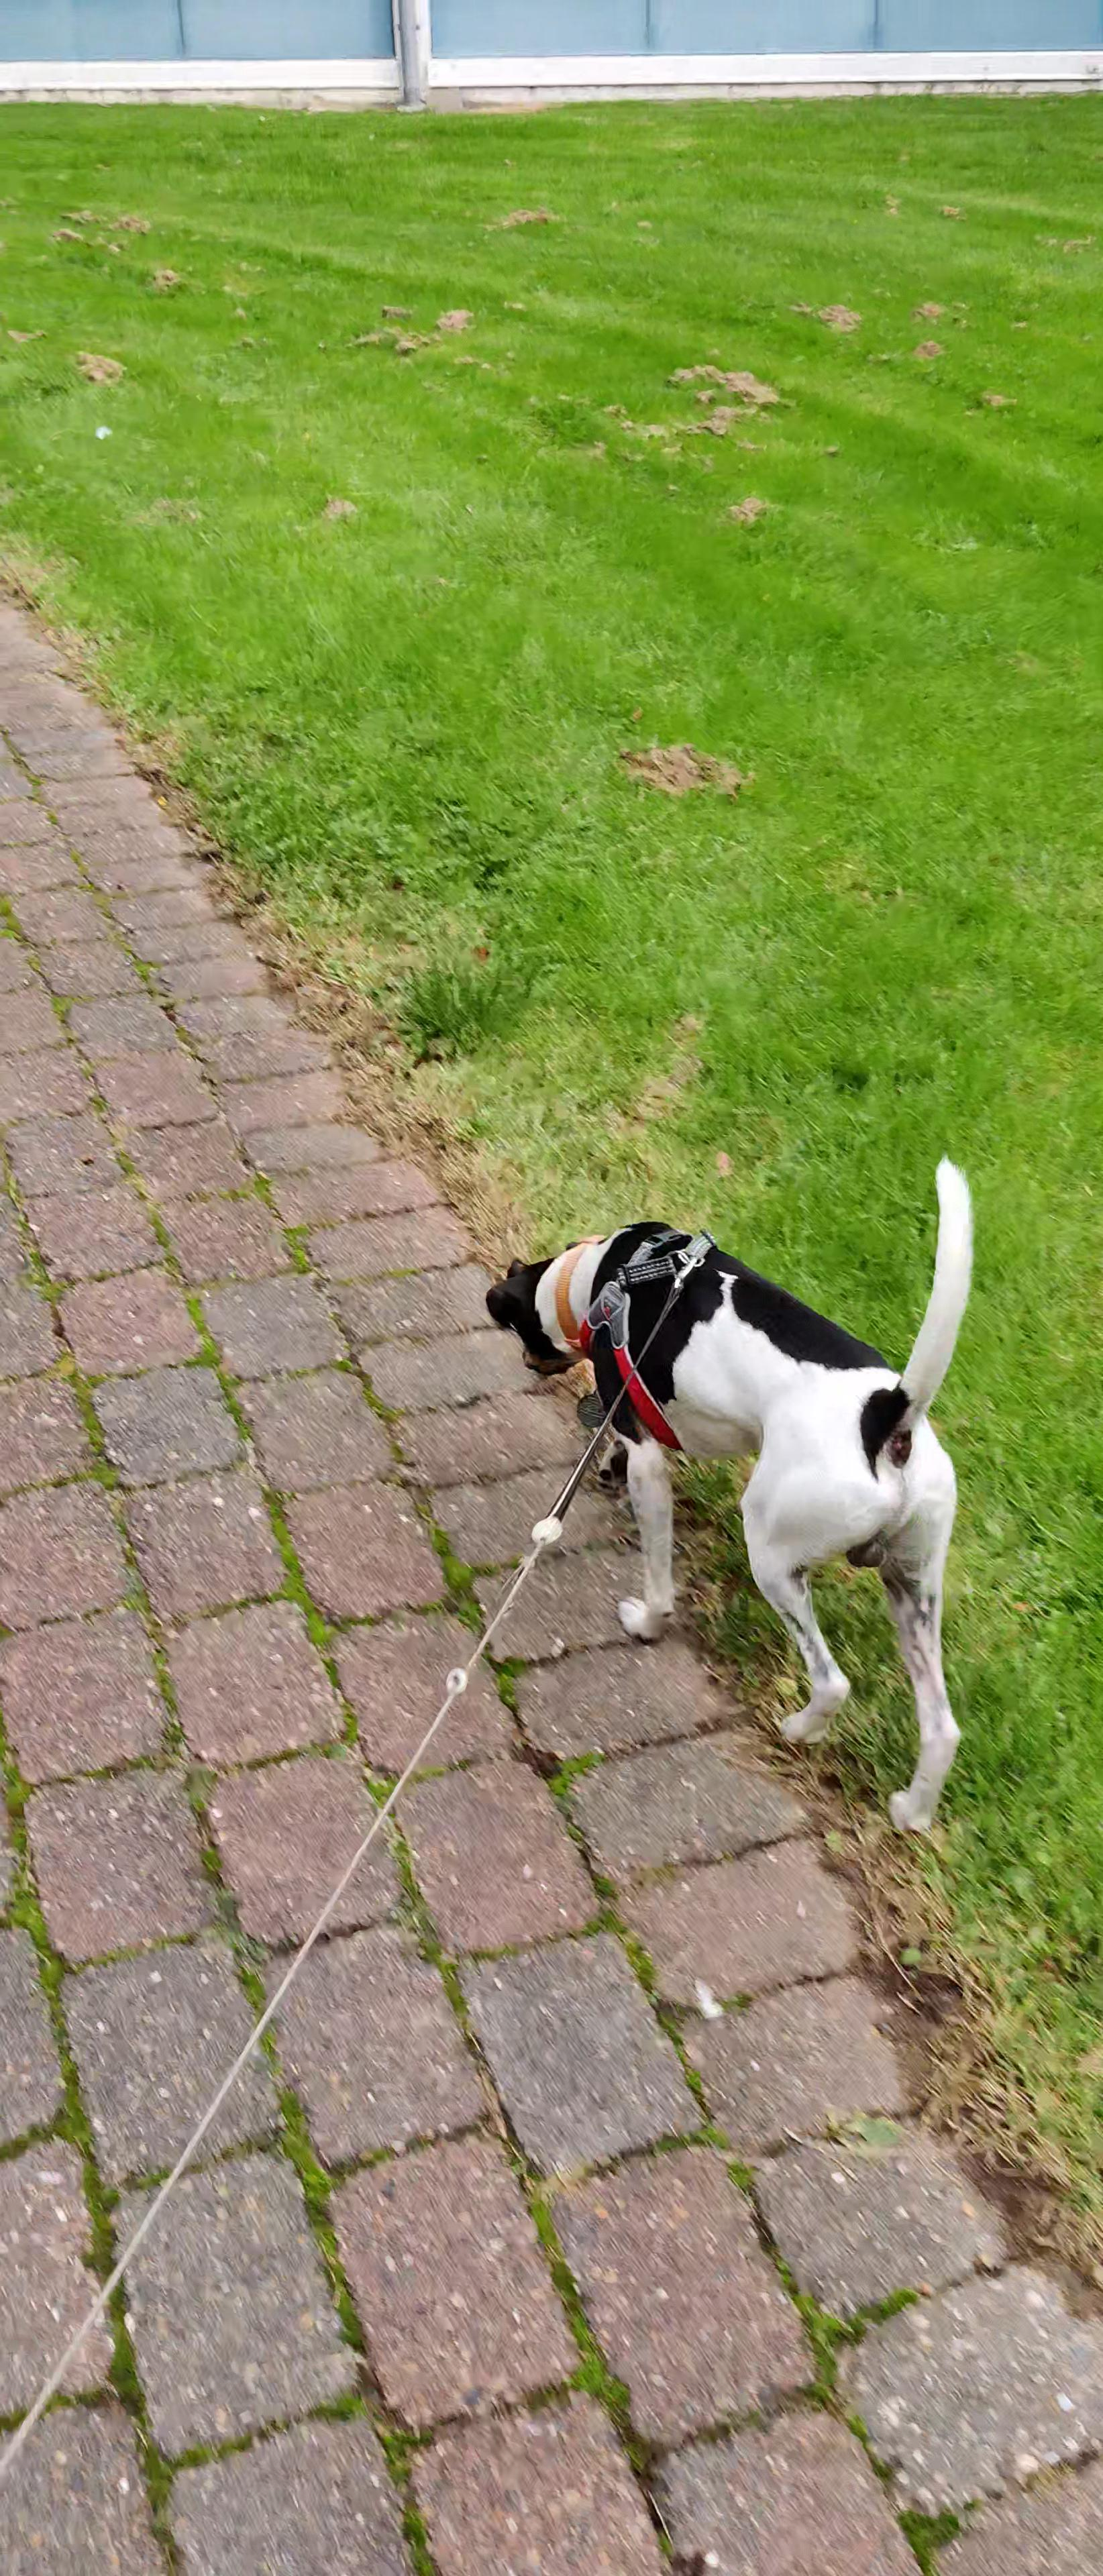Dog: (470, 1147, 983, 1845)
